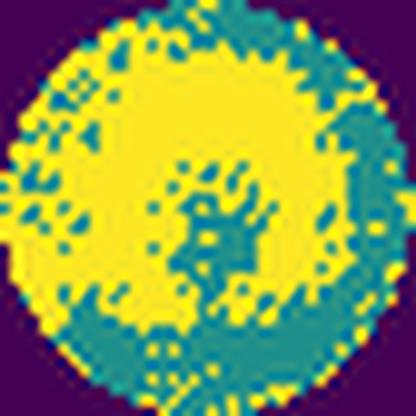Donut: (0, 0, 363, 332)
